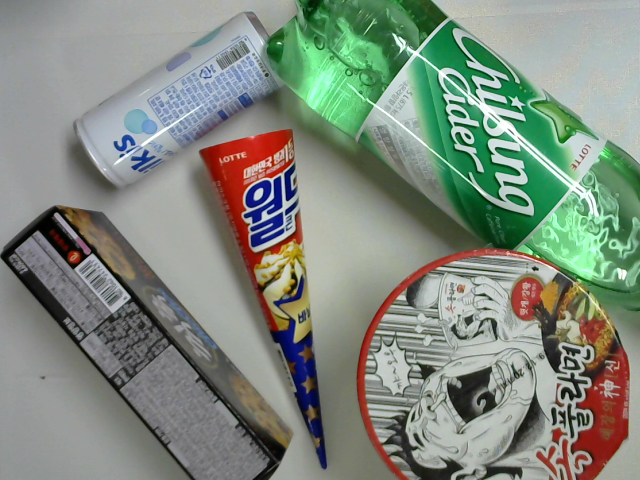Chicchok_Original_2400: (1, 201, 300, 480)
Chilseong_Cider_1.5L: (261, 4, 640, 315)
Hejangpul: (349, 245, 637, 480)
Milkies_250ml: (65, 7, 290, 196)
World_Cone_Banila: (199, 120, 348, 472)
